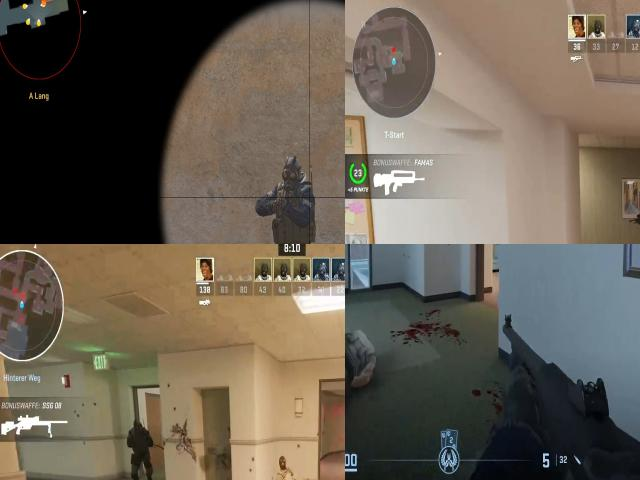CT: (269, 158, 313, 244), (123, 414, 155, 478)
CT-Head: (282, 158, 302, 192)
Dead: (345, 317, 385, 447), (273, 456, 330, 480)
